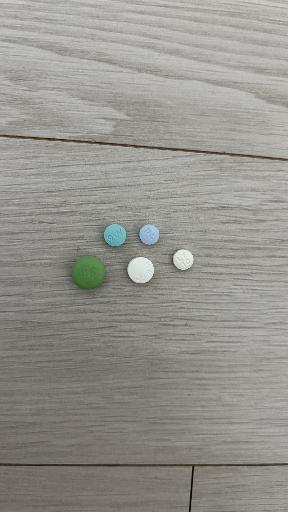Distec F: (71, 256, 105, 289)
Fenocle: (127, 257, 154, 284)
Lafubis: (173, 249, 193, 270)
Myoben: (104, 224, 126, 246)
Prilin: (139, 224, 159, 245)
pills1: (54, 206, 217, 304)
